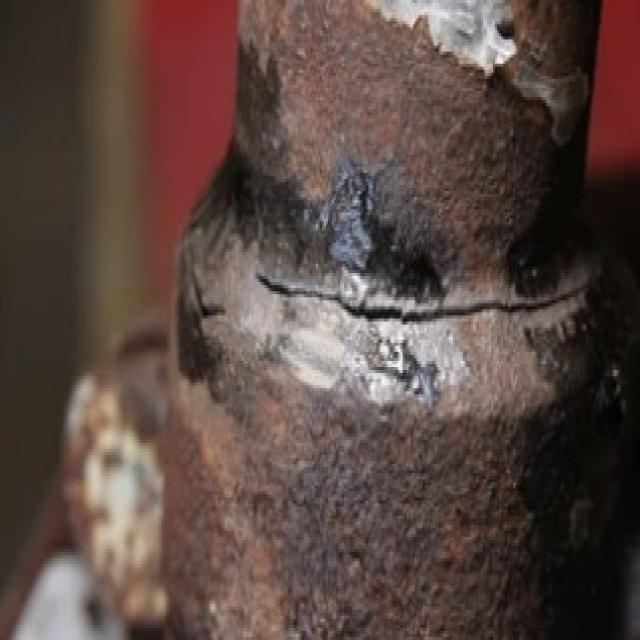Crack: (178, 225, 616, 422)
